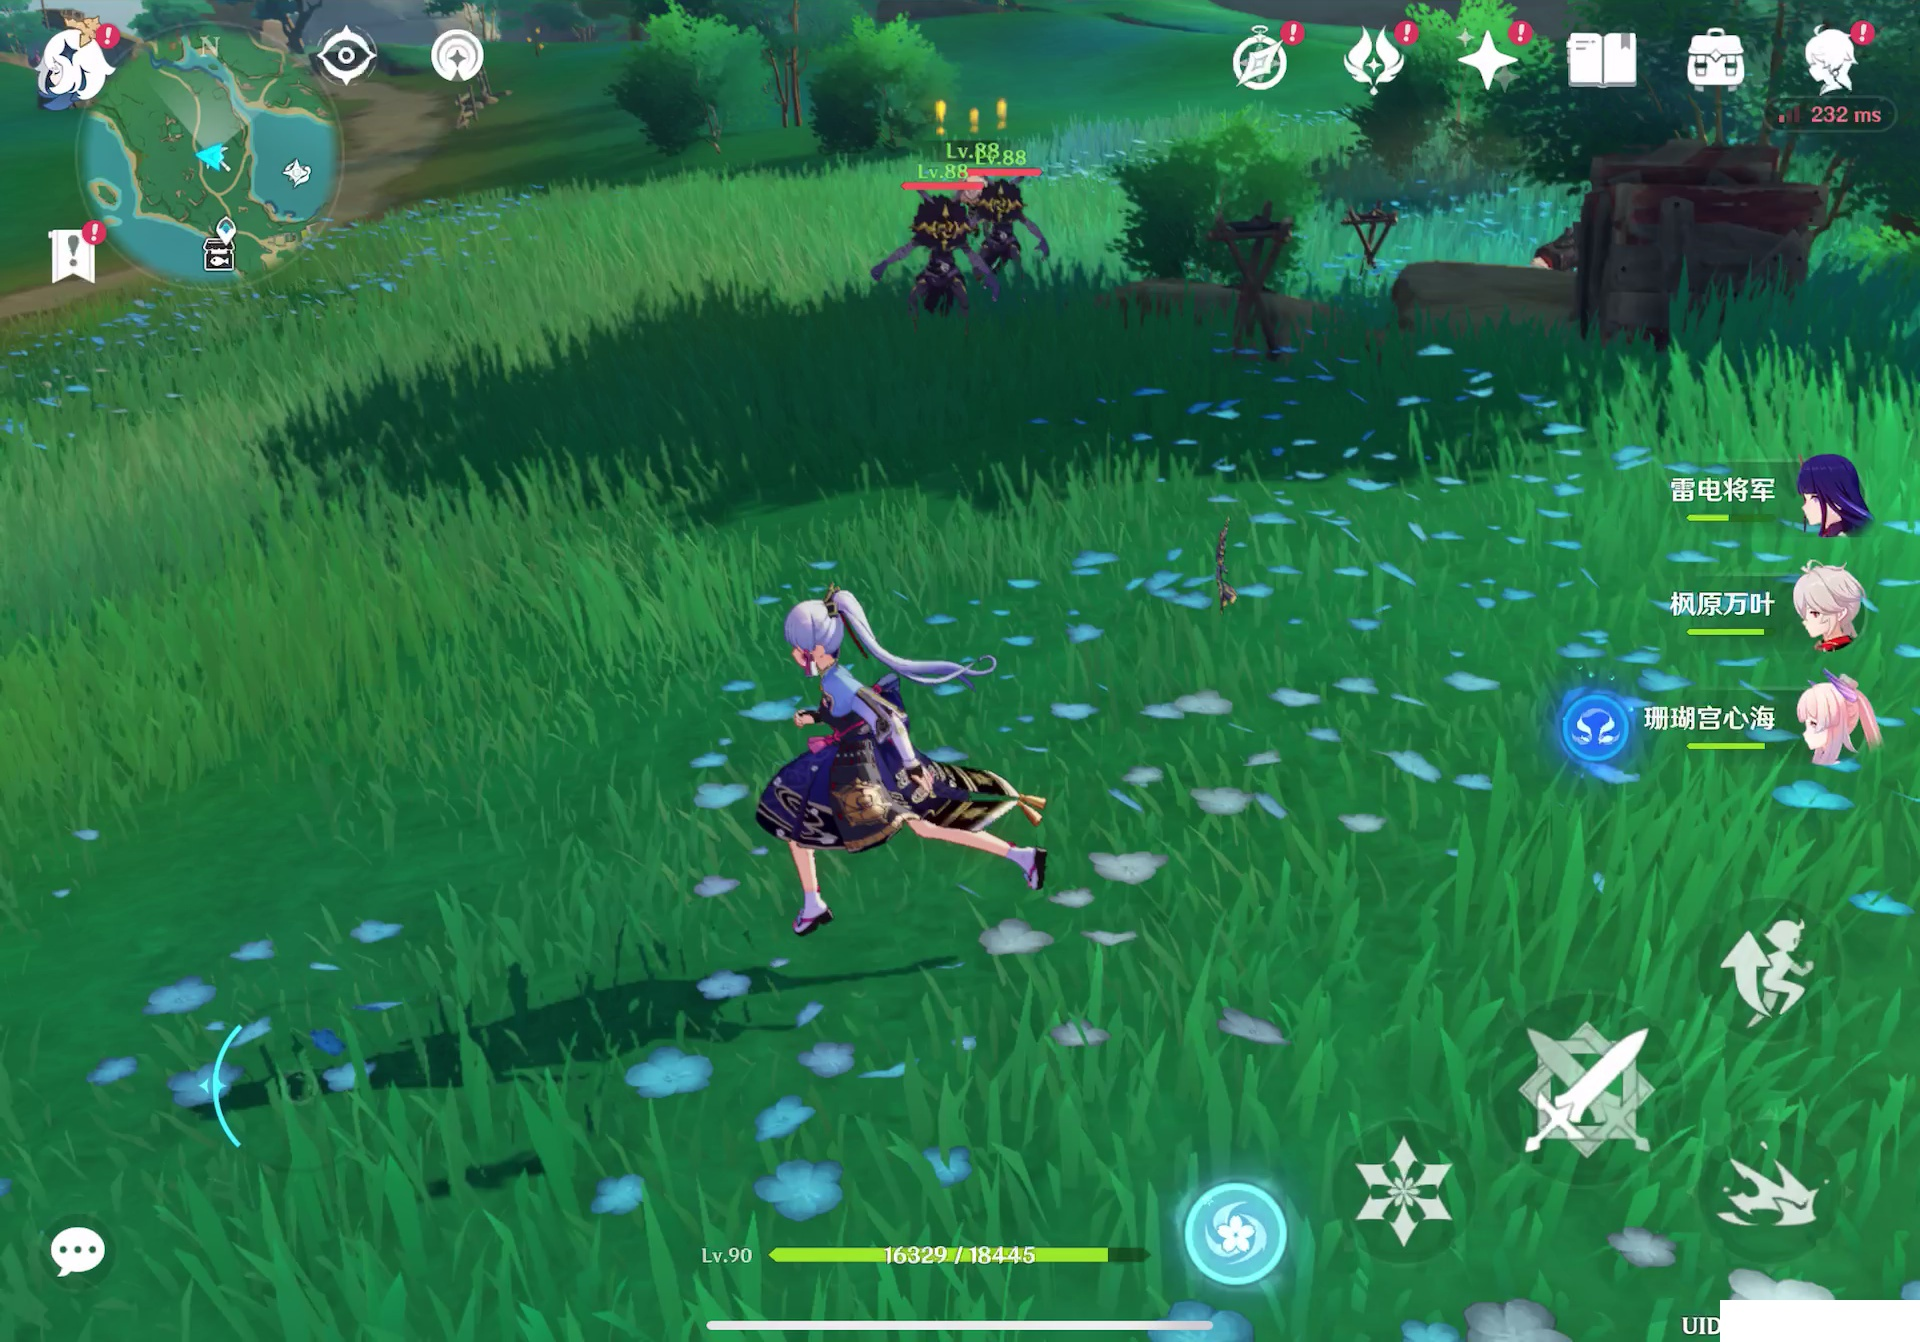丘丘人: (891, 194, 983, 324), (973, 177, 1045, 283)
神里绫龟: (705, 573, 1043, 947)
